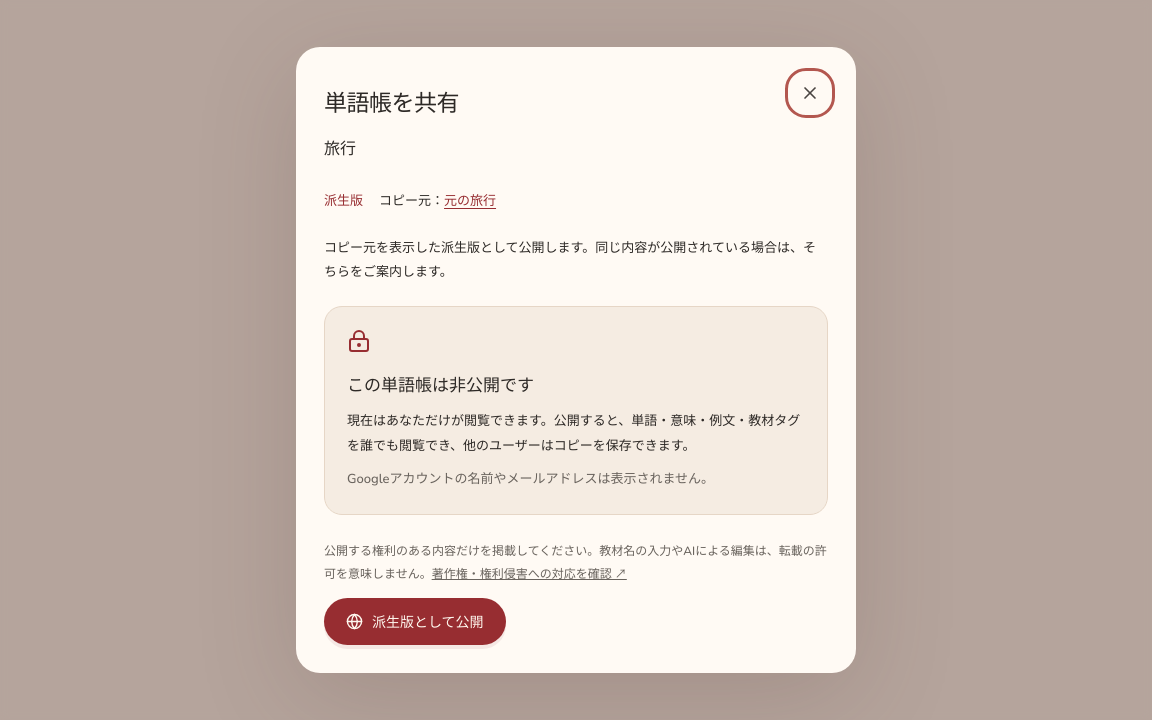
links to the existing publication when duplicate content is rejected
Step 1. Click the button "派生版として公開" → point(415, 621), box 324,598 -> 506,645
(page scrolled)
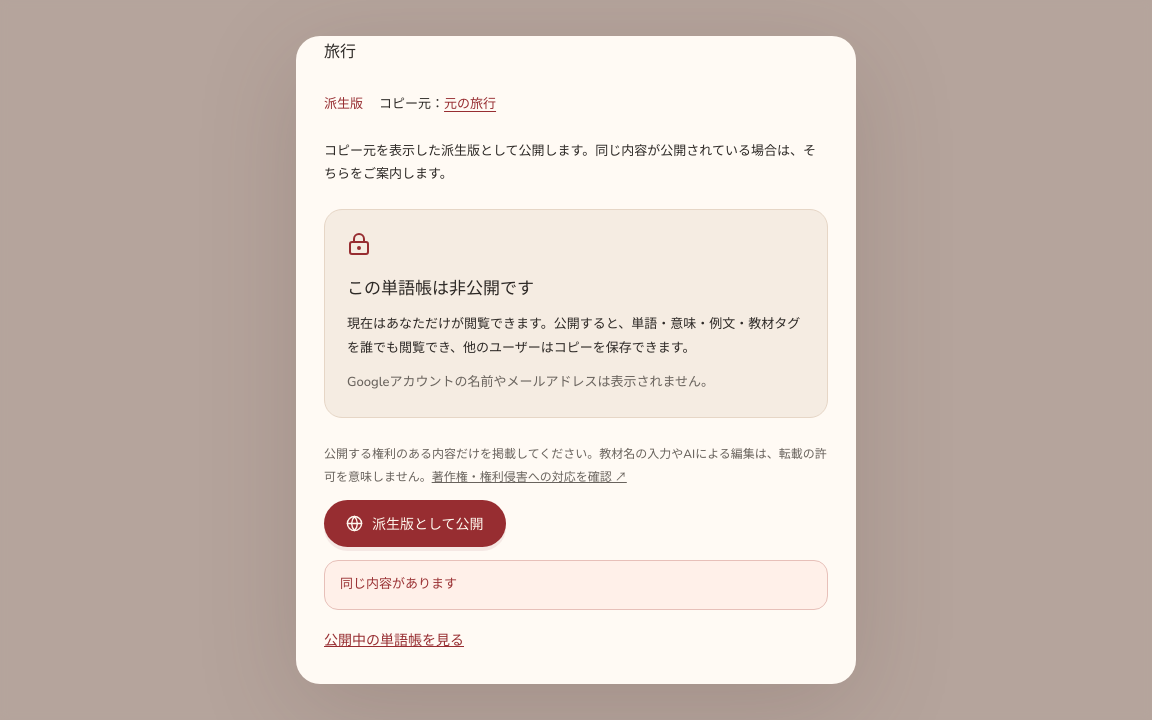
Now the message "同じ内容があります" is shown, box 324,560 -> 828,610
Now the link to "/shared/existing" is shown, box 324,631 -> 464,650
